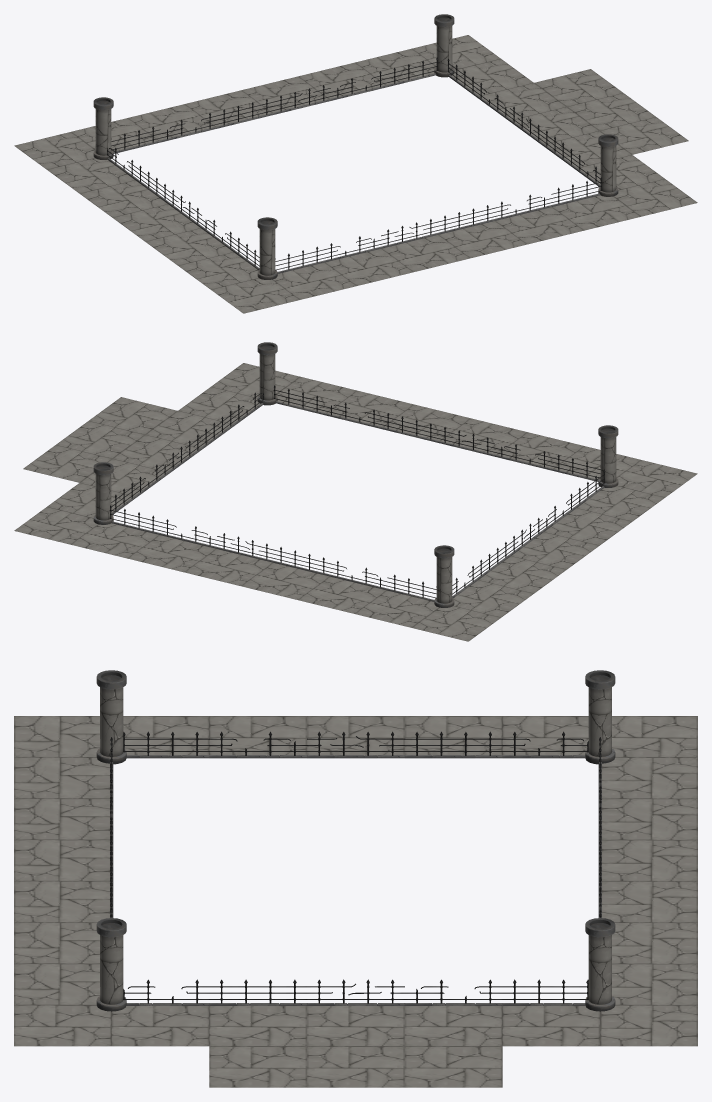
File: SM_peonRoom.fbx
3 views of the same model, one above another, from view 1: azimuth 30°, elevation 25°; view 2: azimuth 150°, elevation 25°; view 3: azimuth 270°, elevation 25° (orthographic). The views are drawn at different scales.
Visible parts, largest first — view 1: SM_floor42 (×3), SM_floor46 (×3), SM_floor43 (×3), SM_floor44 (×3), SM_floor47 (×3), SM_floor41 (×3), SM_floor38 (×2), SM_floor39 (×2), SM_floor37 (×2), SM_floor45 (×2), SM_floor34, SM_floor40 (+6 smaller); view 2: SM_floor44 (×3), SM_floor43 (×3), SM_floor47 (×3), SM_floor42 (×3), SM_floor41 (×3), SM_floor46 (×3), SM_floor38 (×2), SM_floor37 (×2), SM_floor45 (×2), SM_floor39 (×2), SM_floor34, SM_floor40 (+6 smaller); view 3: SM_floor44 (×3), SM_floor43 (×3), SM_floor42 (×3), SM_floor47 (×3), SM_floor46 (×3), SM_floor41 (×3), SM_floor37 (×2), SM_floor38 (×2), SM_floor45 (×2), SM_floor39 (×2), SM_floor34, SM_floor40 (+10 smaller).
Boxes of the visible parts, left/top/right/bottom form: SM_floor42 (×3): left=128, top=83, right=583, bottom=244; SM_floor46 (×3): left=273, top=48, right=697, bottom=299; SM_floor43 (×3): left=184, top=90, right=599, bottom=257; SM_floor44 (×3): left=241, top=76, right=631, bottom=271; SM_floor47 (×3): left=298, top=62, right=664, bottom=285; SM_floor41 (×3): left=71, top=59, right=640, bottom=230; SM_floor38 (×2): left=80, top=93, right=655, bottom=217; SM_floor39 (×2): left=47, top=69, right=622, bottom=193; SM_floor37 (×2): left=112, top=117, right=688, bottom=241; SM_floor45 (×2): left=211, top=35, right=500, bottom=313; SM_floor34: left=145, top=228, right=233, bottom=265; SM_floor40: left=14, top=132, right=94, bottom=169; SM_floor44 (×3): left=145, top=411, right=527, bottom=585; SM_floor43 (×3): left=112, top=404, right=470, bottom=599; SM_floor47 (×3): left=128, top=387, right=583, bottom=572; SM_floor42 (×3): left=80, top=390, right=413, bottom=613; SM_floor41 (×3): left=47, top=376, right=438, bottom=627; SM_floor46 (×3): left=71, top=363, right=640, bottom=558; SM_floor38 (×2): left=56, top=421, right=566, bottom=593; SM_floor37 (×2): left=89, top=397, right=599, bottom=569; SM_floor45 (×2): left=14, top=460, right=697, bottom=544; SM_floor39 (×2): left=23, top=445, right=533, bottom=617; SM_floor34: left=544, top=508, right=631, bottom=545; SM_floor40: left=412, top=606, right=500, bottom=641; SM_floor44 (×3): left=14, top=840, right=697, bottom=1046; SM_floor43 (×3): left=14, top=840, right=697, bottom=1046; SM_floor42 (×3): left=14, top=798, right=697, bottom=1046; SM_floor47 (×3): left=14, top=798, right=697, bottom=1046; SM_floor46 (×3): left=14, top=757, right=697, bottom=1046; SM_floor41 (×3): left=14, top=757, right=697, bottom=1046; SM_floor37 (×2): left=209, top=716, right=404, bottom=1087; SM_floor38 (×2): left=307, top=716, right=502, bottom=1087; SM_floor45 (×2): left=14, top=716, right=697, bottom=1046; SM_floor39 (×2): left=405, top=716, right=588, bottom=1087; SM_floor34: left=209, top=716, right=306, bottom=756; SM_floor40: left=612, top=716, right=697, bottom=757.
Bounding box in the file's own units: 54.39 × 5.57 × 42.31.
